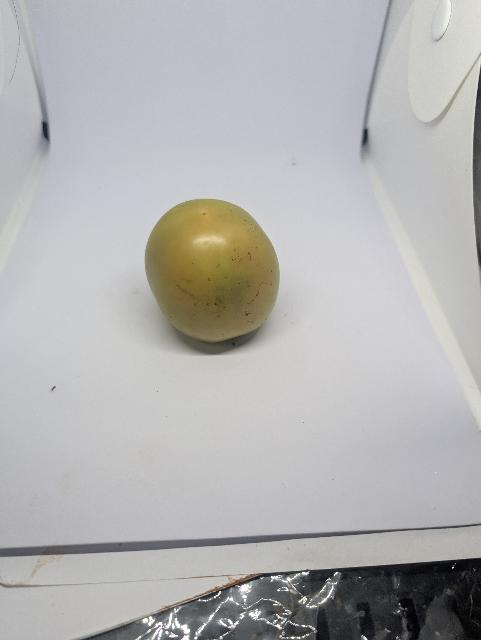turning: (140, 197, 284, 344)
